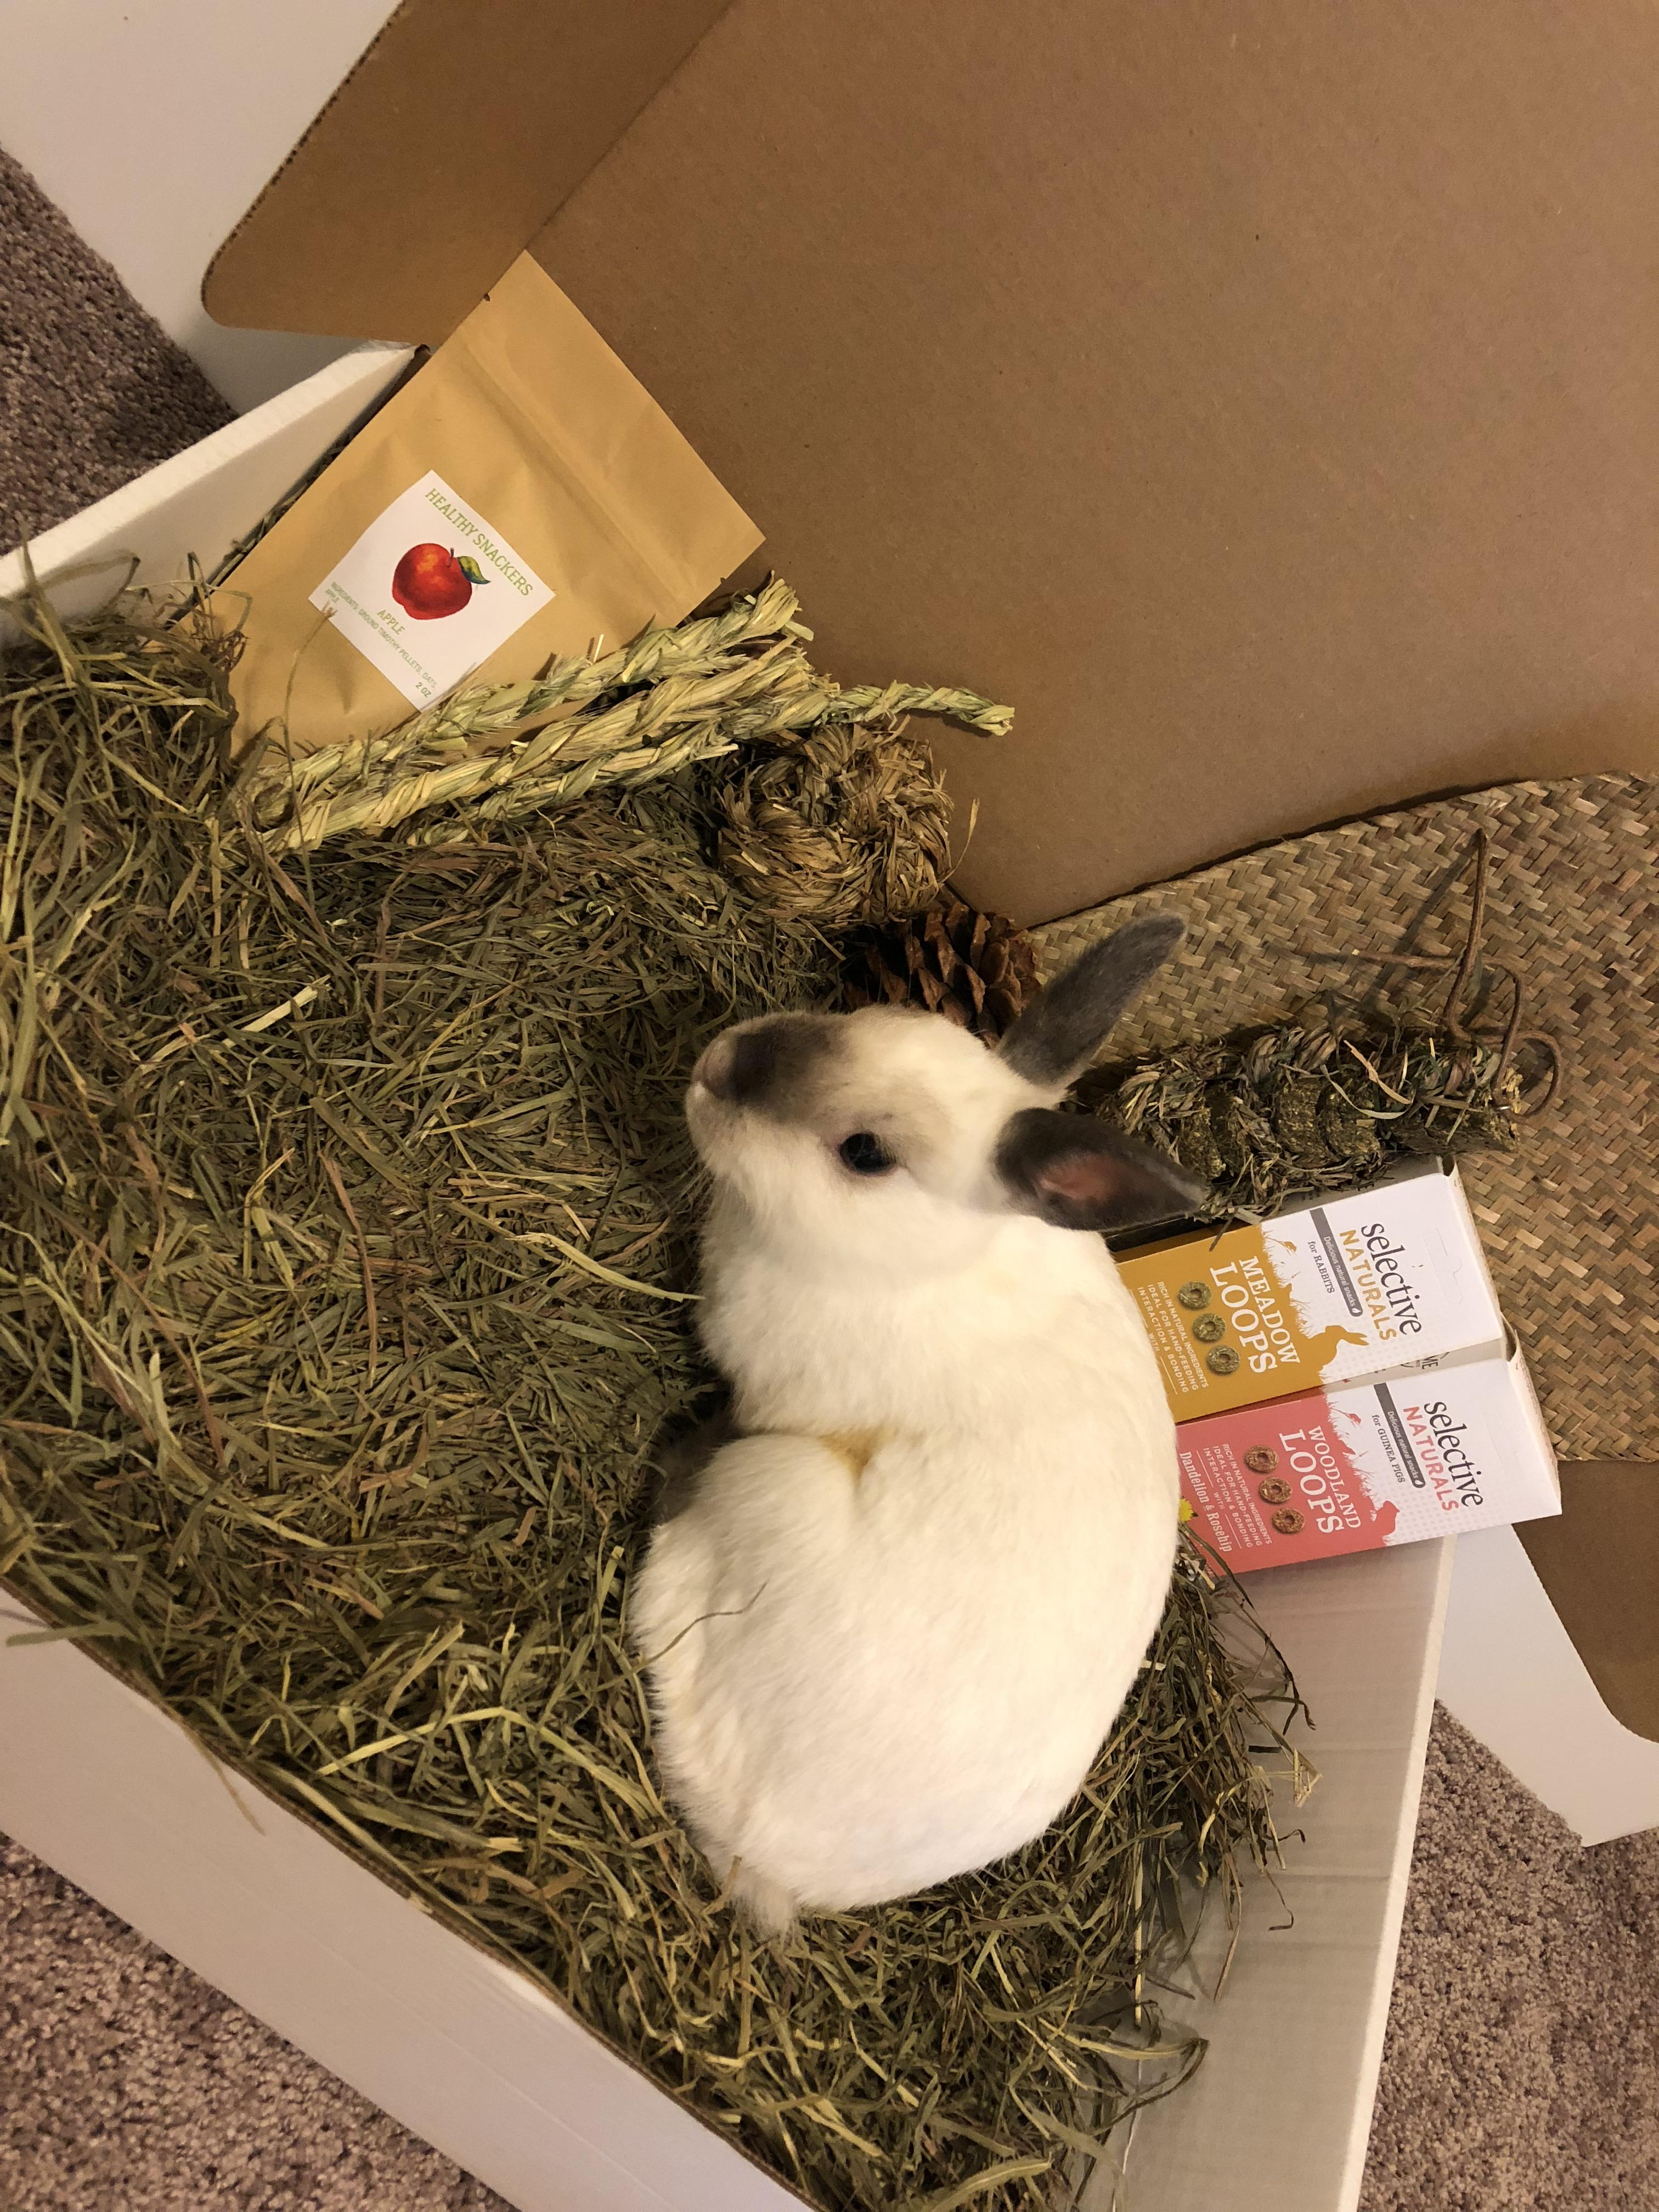bunny: (591, 874, 1295, 1965)
